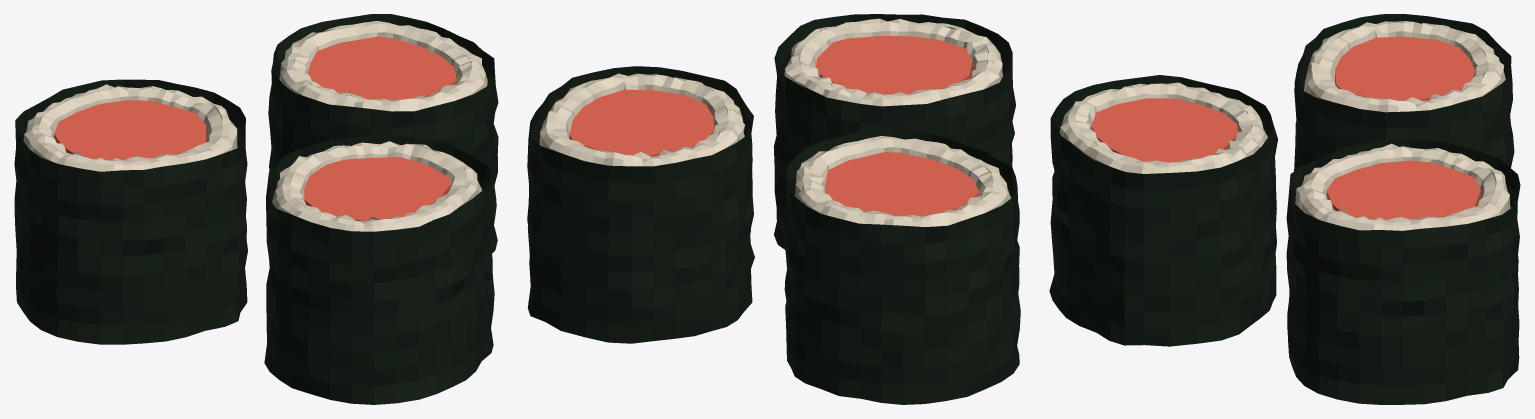
3 renders of one model, left to right at view 1: azimuth 30°, elevation 25°; view 2: azimuth 150°, elevation 25°; view 3: azimuth 270°, elevation 25°, orthographic. The views are drawn at different scales.
Parts seen in each view (by area): view 1: nori, nori.001, nori.002, rice.002, rice, rice.001, fish.001, fish, fish.002; view 2: nori, nori.002, nori.001, rice, rice.001, rice.002, fish.002, fish, fish.001; view 3: nori.002, nori.001, nori, rice.001, rice, rice.002, fish.001, fish.002, fish.
Part boxes in pixels (x1,y1,x2,y2): nori: (14, 79, 247, 344); nori.001: (264, 135, 494, 404); nori.002: (268, 14, 498, 253); rice.002: (279, 21, 487, 111); rice: (23, 84, 237, 171); rice.001: (272, 141, 482, 231); fish.001: (304, 157, 450, 221); fish: (54, 100, 206, 160); fish.002: (307, 36, 456, 100); nori: (784, 128, 1020, 404); nori.002: (527, 66, 754, 343); nori.001: (773, 14, 1015, 249); rice: (795, 136, 1010, 226); rice.001: (784, 18, 1003, 106); rice.002: (539, 73, 744, 166); fish.002: (569, 89, 714, 156); fish: (825, 152, 979, 216); fish.001: (816, 35, 972, 94); nori.002: (1286, 139, 1520, 404); nori.001: (1049, 75, 1277, 346); nori: (1294, 14, 1514, 171); rice.001: (1059, 82, 1267, 173); rice: (1304, 21, 1505, 112); rice.002: (1295, 143, 1510, 230); fish.001: (1091, 98, 1238, 162); fish.002: (1326, 160, 1480, 220); fish: (1335, 36, 1475, 100).
Bounding box in the file's own units: 4.09 × 1.54 × 3.7.
